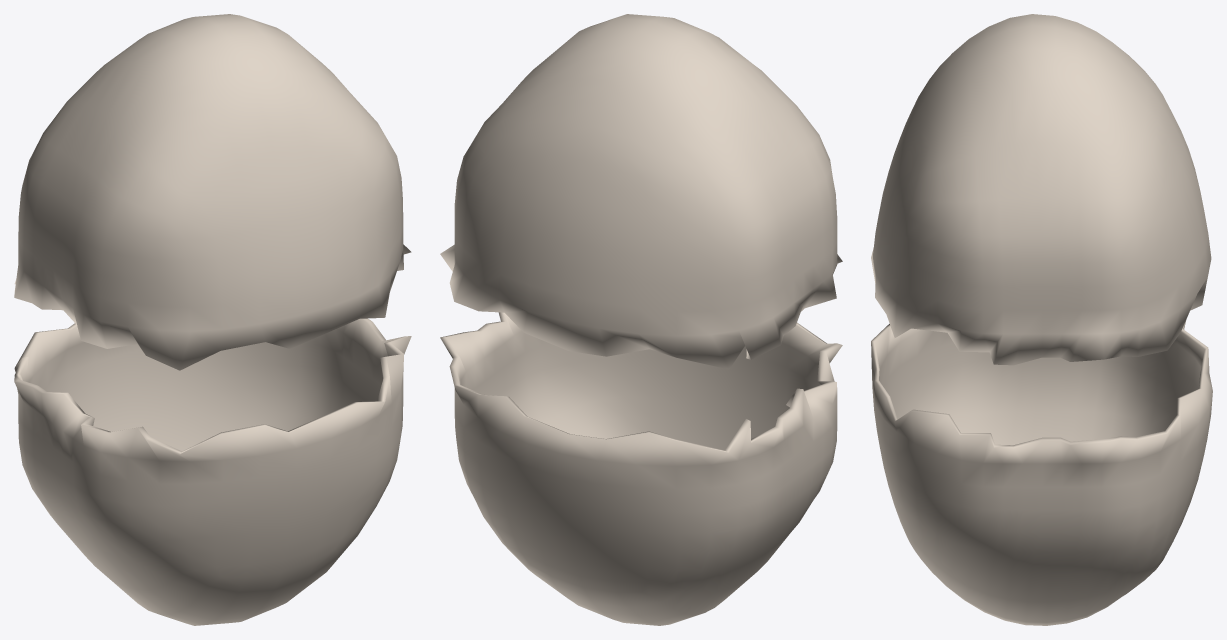
Rendered from egg shells.fbx.
3 renders of one model, left to right at view 1: azimuth 30°, elevation 25°; view 2: azimuth 150°, elevation 25°; view 3: azimuth 270°, elevation 25°, orthographic.
Visible parts, largest first — view 1: Shell.001, Shell; view 2: Shell.001, Shell; view 3: Shell.001, Shell.
Boxes of the visible parts, x1,y1,x2,y2 form: Shell.001: (14, 14, 411, 370); Shell: (14, 318, 411, 625); Shell.001: (440, 14, 842, 369); Shell: (440, 312, 842, 625); Shell.001: (871, 14, 1211, 365); Shell: (871, 320, 1212, 625).
Bounding box in the file's own units: 150 × 248 × 131.
